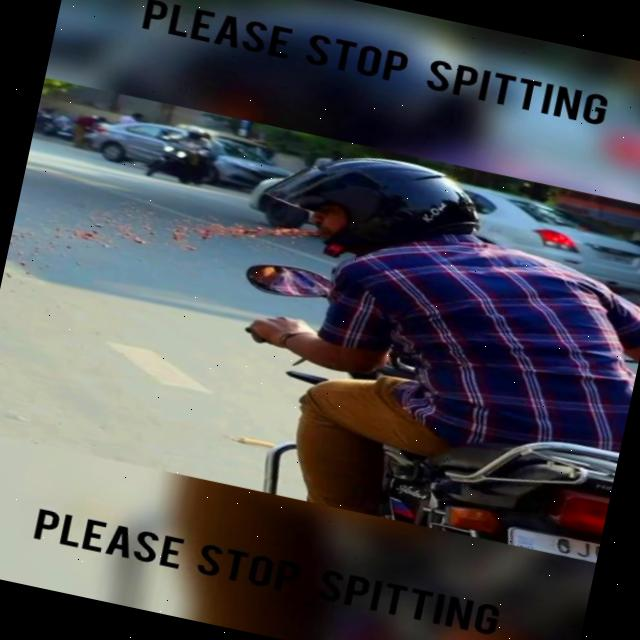spit: (0, 174, 354, 322)
